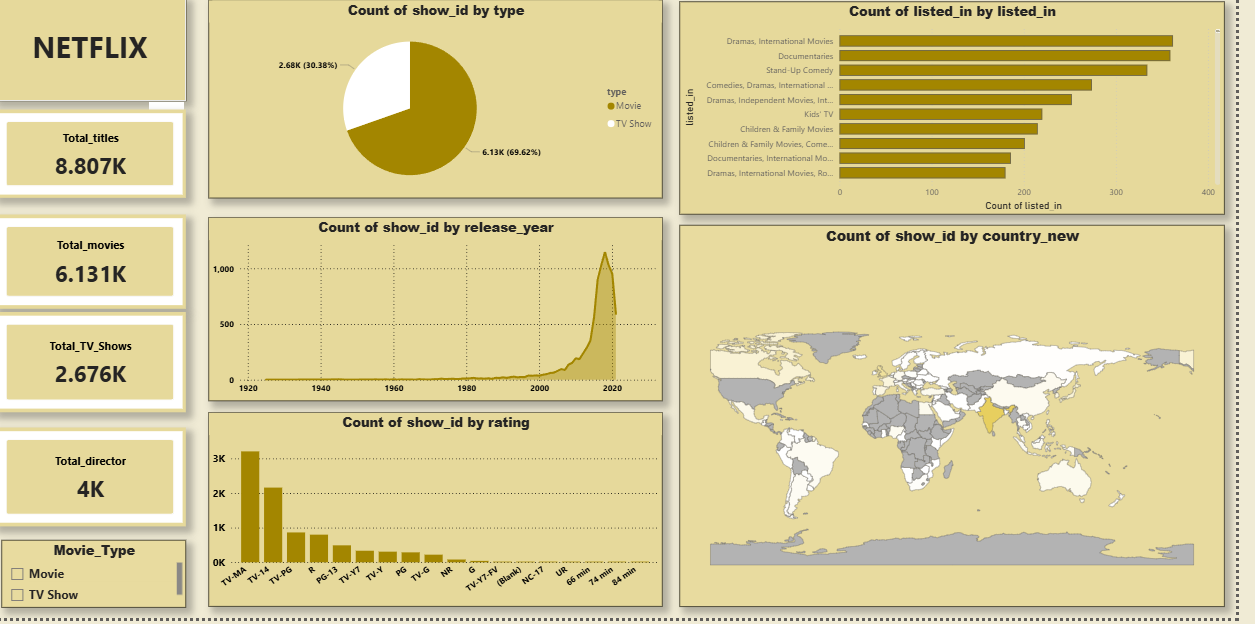

This screenshot's page, from the dashboard's own definition file:
{"tool":"powerbi","page":{"name":"Page 1","canvas":[1800,900],"ordinal":0},"visuals":[{"type":"textbox","box":[0,0,278.5,150.6],"z":0},{"type":"cardVisual","fields":{"Data":["netflix_titles.Total_titles"]},"box":[0,163,278.3,128.3],"z":1000},{"type":"cardVisual","fields":{"Data":["netflix_titles.Total_movies"]},"box":[0,315.2,278.3,137],"z":2000},{"type":"cardVisual","fields":{"Data":["netflix_titles.Total_TV_Shows"]},"box":[0,456.5,278.3,145.7],"z":3000},{"type":"pieChart","fields":{"Category":["netflix_titles.type"],"Y":["CountNonNull(netflix_titles.show_id)"]},"box":[310.9,4.3,658,287.5],"z":4000},{"type":"clusteredBarChart","fields":{"Category":["netflix_titles.listed_in"],"Y":["CountNonNull(netflix_titles.listed_in)"]},"box":[994.4,6.4,790,308.8],"z":5000},{"type":"areaChart","fields":{"Category":["netflix_titles.release_year"],"Y":["CountNonNull(netflix_titles.show_id)"]},"box":[310.9,319.4,658,266.2],"z":6000},{"type":"lineStackedColumnComboChart","fields":{"Y":["CountNonNull(netflix_titles.show_id)"],"Category":["netflix_titles.rating"]},"box":[310.9,602.6,658,281.1],"z":7000},{"type":"shapeMap","fields":{"Category":["netflix_titles.country_new"],"Value":["CountNonNull(netflix_titles.show_id)"]},"box":[994.4,330,790,553.6],"z":7001},{"type":"cardVisual","fields":{"Data":["netflix_titles.Total_director"]},"box":[0,623.9,278.3,143.5],"z":7002},{"type":"slicer","title":"Movie_Type","fields":{"Values":["netflix_titles.type"]},"box":[10.9,787,267.4,97.8],"z":7003}]}

Visuals, with their boxes in screenshot pixels (x1, y1, x2, y2), scaled from the page's 1800x900 canvas onto the 1255x624 screenshot:
textbox: 0 0 194 104
cardVisual - netflix_titles.Total_titles: 0 113 194 202
cardVisual - netflix_titles.Total_movies: 0 219 194 314
cardVisual - netflix_titles.Total_TV_Shows: 0 317 194 418
pieChart - netflix_titles.type x CountNonNull(netflix_titles.show_id): 217 3 676 202
clusteredBarChart - netflix_titles.listed_in x CountNonNull(netflix_titles.listed_in): 693 4 1244 219
areaChart - netflix_titles.release_year x CountNonNull(netflix_titles.show_id): 217 221 676 406
lineStackedColumnComboChart - CountNonNull(netflix_titles.show_id) x netflix_titles.rating: 217 418 676 613
shapeMap - netflix_titles.country_new x CountNonNull(netflix_titles.show_id): 693 229 1244 613
cardVisual - netflix_titles.Total_director: 0 433 194 532
"Movie_Type" slicer: 8 546 194 613
